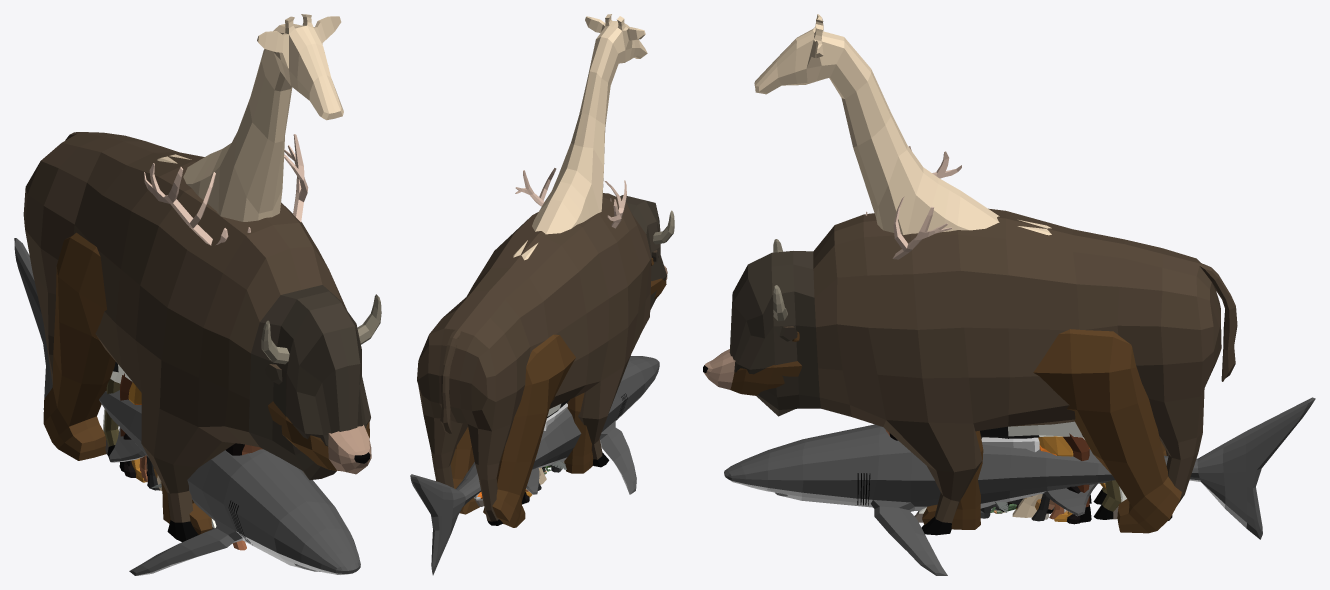
Rendered from AllAnimals.fbx.
The picture shows the model from 3 angles, left to right: view 1: azimuth 30°, elevation 25°; view 2: azimuth 150°, elevation 25°; view 3: azimuth 270°, elevation 25°; orthographic projection. The views are drawn at different scales.
Visible parts, largest first — view 1: 04bizonFinal, 07sharkFinal, 08bearFinal, 18girafFinal, 09deerFinal, 12dogFinal; view 2: 04bizonFinal, 18girafFinal, 08bearFinal, 07sharkFinal, 09deerFinal; view 3: 04bizonFinal, 07sharkFinal, 08bearFinal, 18girafFinal, 09deerFinal, 13cowFinal, 10sheepFinal.
Boxes of the visible parts, x1,y1,x2,y2 form: 04bizonFinal: (23,132,381,542); 07sharkFinal: (14,238,360,575); 08bearFinal: (43,232,371,534); 18girafFinal: (157,14,343,490); 09deerFinal: (104,134,308,456); 12dogFinal: (139,443,262,550); 04bizonFinal: (417,193,674,525); 18girafFinal: (513,14,647,484); 08bearFinal: (450,258,667,527); 07sharkFinal: (410,356,659,575); 09deerFinal: (515,168,626,228); 04bizonFinal: (729,208,1237,535); 07sharkFinal: (724,397,1315,575); 08bearFinal: (703,329,1181,533); 18girafFinal: (754,14,1051,517); 09deerFinal: (865,146,1121,519); 13cowFinal: (914,421,1126,522); 10sheepFinal: (916,437,1049,521).
Bounding box in the file's own units: 143 × 420 × 450.
Materials: 25 (25 with a texture image).
